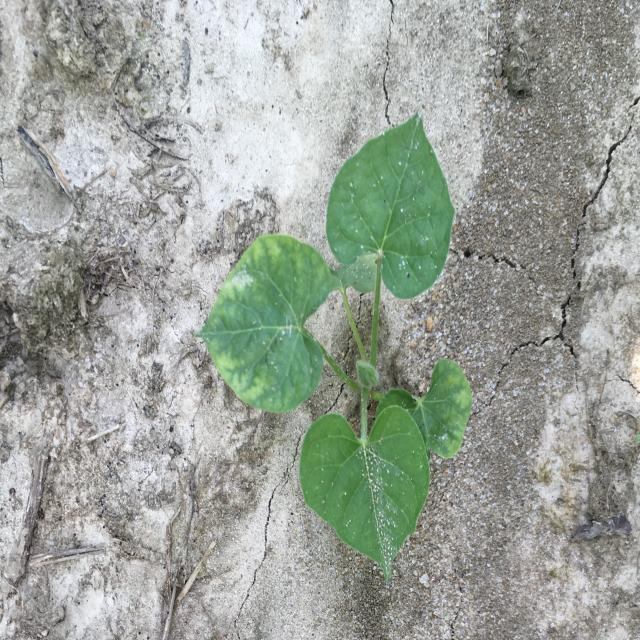MorningGlory: (195, 105, 472, 586)
